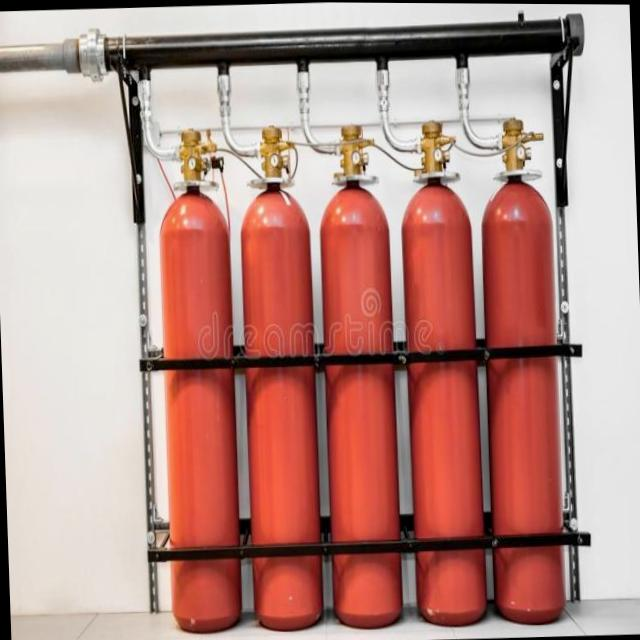FireExtinguisher: (392, 110, 490, 629), (148, 121, 246, 640), (468, 117, 567, 626), (232, 115, 328, 635), (310, 118, 406, 637)
